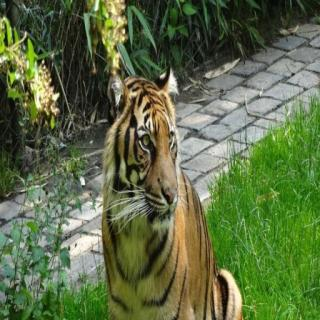Tiger: (85, 66, 246, 320)
